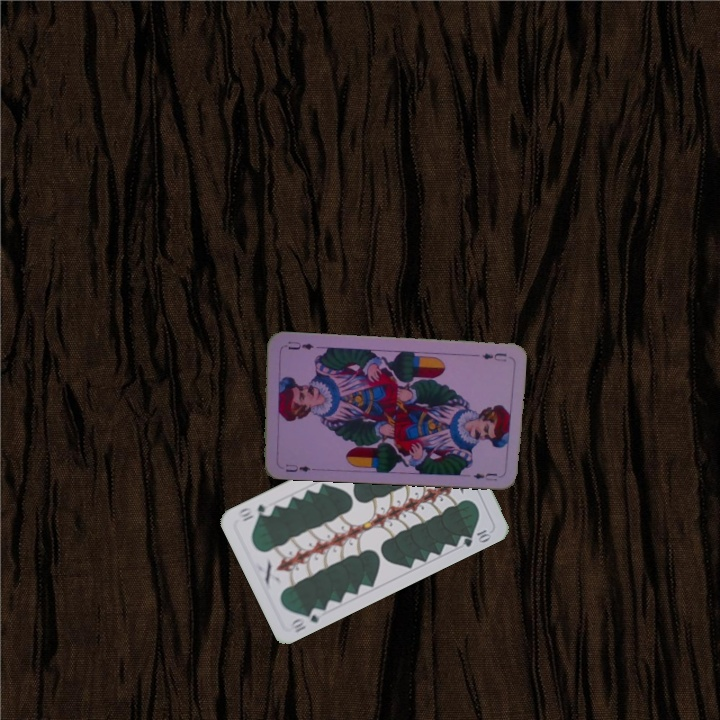EU: (281, 460, 313, 475), (478, 349, 509, 364)
G10: (287, 604, 326, 636)
